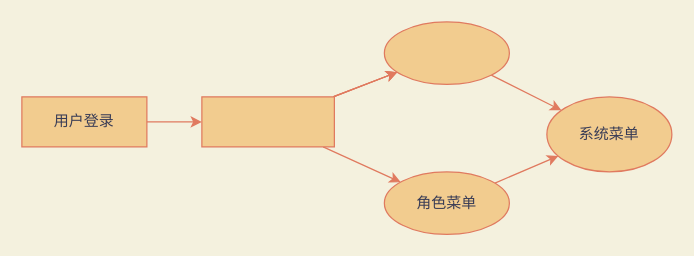
This 694x256 diagram has some shape labels left out. The box of each missing label's shape, as (x1, y1, x2, y2) in pixels:
用户类型: (201, 96, 334, 147)
通用菜单: (383, 21, 509, 84)
